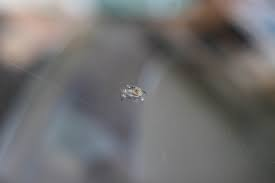bullseye: (114, 77, 155, 110)
